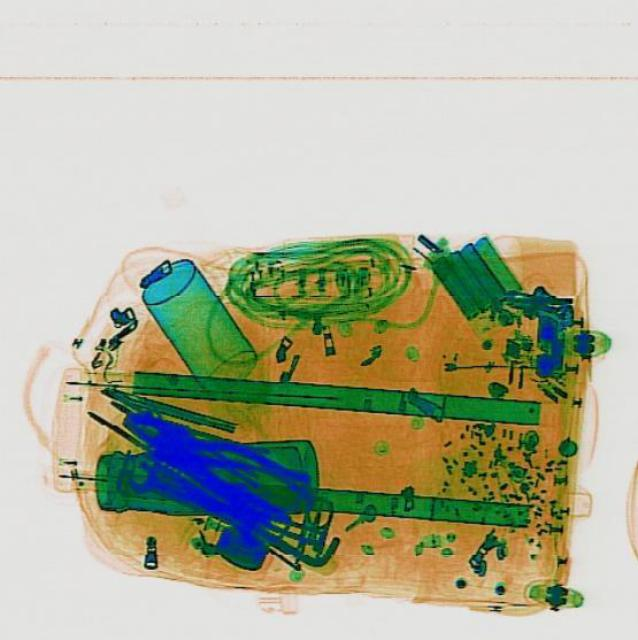Pliers: (107, 390, 314, 526)
Wrench: (121, 454, 238, 530)
